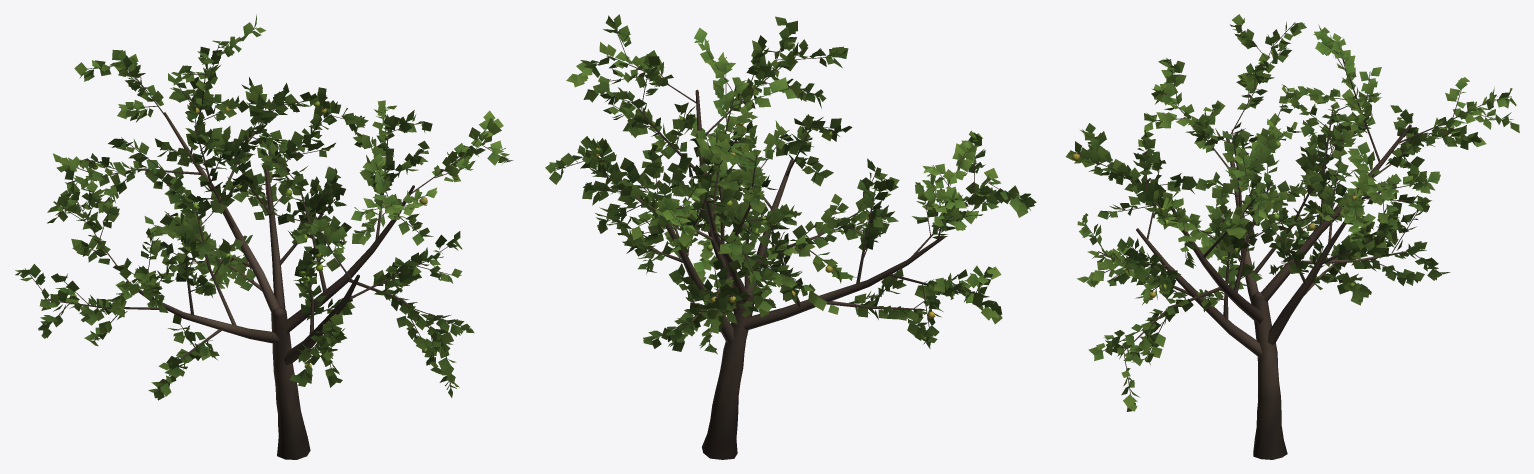
The model's file is apple-b.lod0.glb.
3 renders of one model, left to right at view 1: azimuth 30°, elevation 25°; view 2: azimuth 150°, elevation 25°; view 3: azimuth 270°, elevation 25°, orthographic. The views are drawn at different scales.
Bounding box in the file's own units: 6.29 × 5.58 × 5.46.
